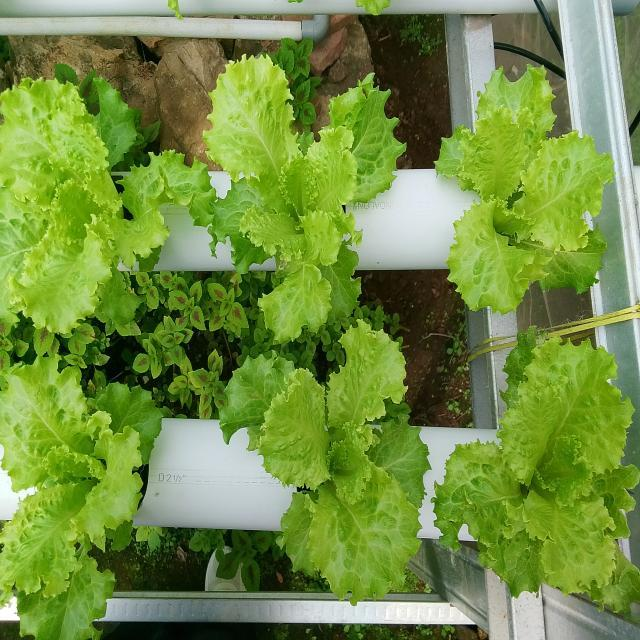Baby: (188, 38, 405, 343), (434, 326, 640, 609), (0, 73, 191, 355), (435, 15, 611, 319), (250, 321, 429, 603), (0, 355, 163, 640)
